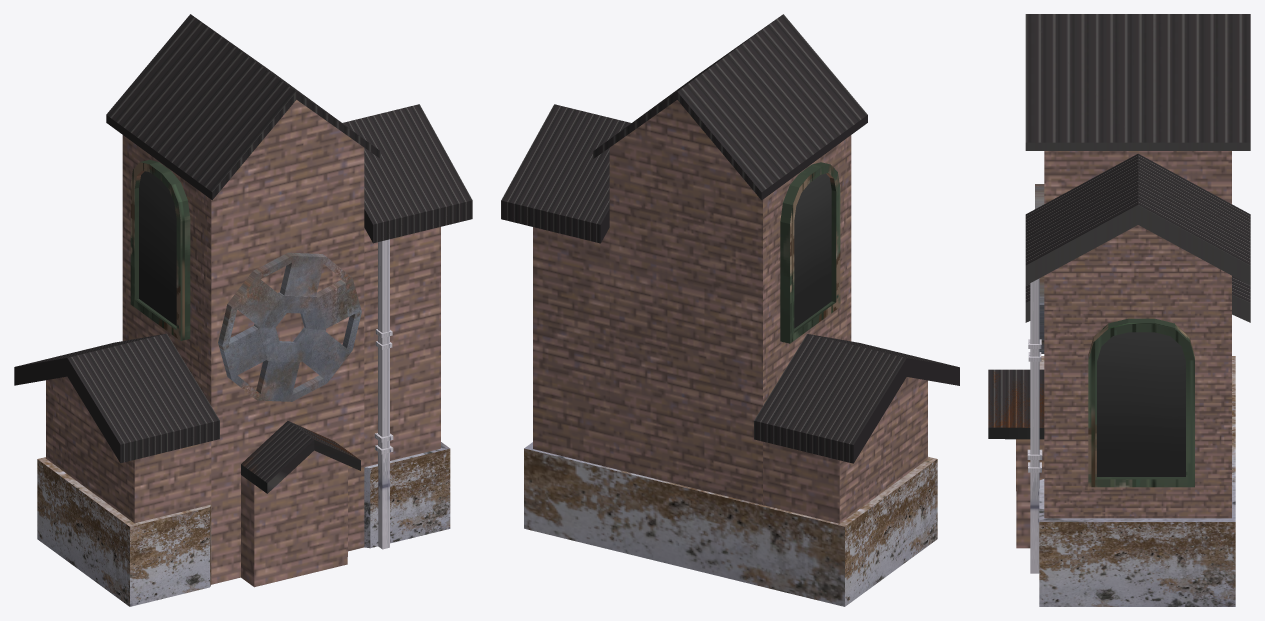
File: 4_industrial.fbx
3 views of the same model, side by side, from view 1: azimuth 30°, elevation 25°; view 2: azimuth 150°, elevation 25°; view 3: azimuth 270°, elevation 25° (orthographic). The views are drawn at different scales.
Visible parts, largest first — view 1: Roof; view 2: Roof; view 3: Roof.
Part boxes in pixels (x1,y1,x2,y2): Roof: (14,14,472,606); Roof: (501,14,959,606); Roof: (988,14,1250,606).
Bounding box in the file's own units: 324 × 422 × 197.
